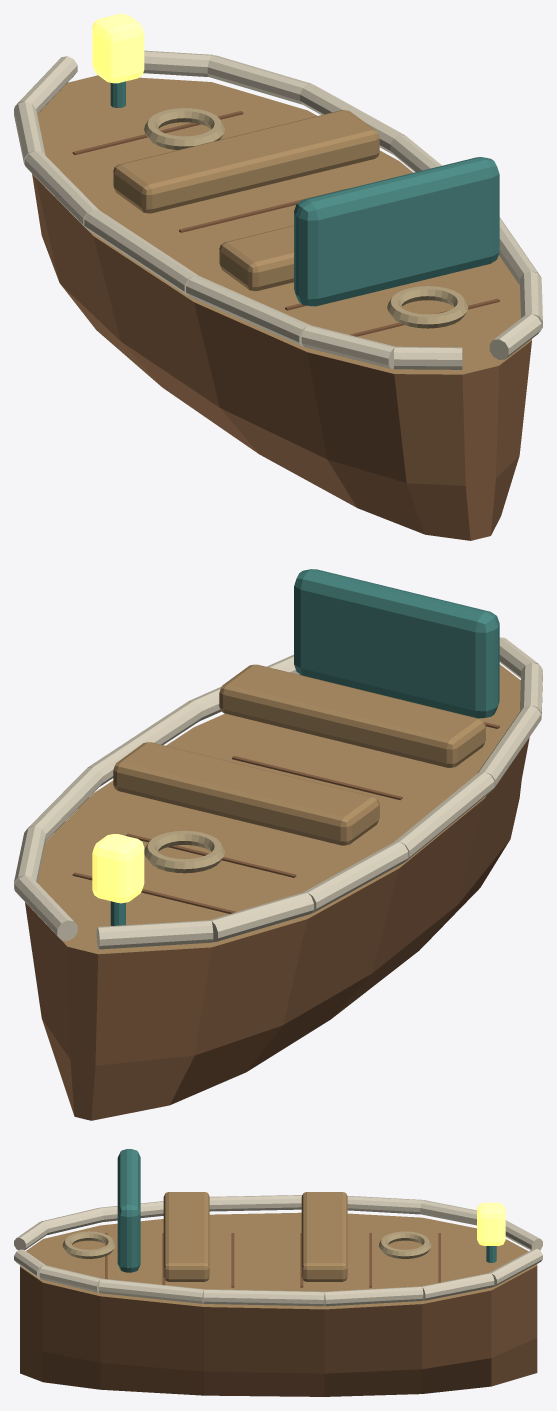
File: moonbay-boat-v1.glb
The picture shows the model from 3 angles, top to bottom: view 1: azimuth 30°, elevation 25°; view 2: azimuth 150°, elevation 25°; view 3: azimuth 270°, elevation 25°; orthographic projection. The views are drawn at different scales.
Parts seen in each view (by area): view 1: MB_wood_geometry, MB_woodlight_geometry, MB_trim_geometry, MB_copper_geometry, MB_rope_geometry, MB_lamp_geometry; view 2: MB_woodlight_geometry, MB_wood_geometry, MB_copper_geometry, MB_trim_geometry, MB_lamp_geometry, MB_rope_geometry; view 3: MB_wood_geometry, MB_woodlight_geometry, MB_trim_geometry, MB_copper_geometry, MB_rope_geometry, MB_lamp_geometry.
Part boxes in pixels (x1,y1,x2,y2): MB_wood_geometry: (32, 111, 531, 540); MB_woodlight_geometry: (37, 75, 531, 374); MB_trim_geometry: (14, 50, 542, 369); MB_copper_geometry: (110, 81, 499, 306); MB_rope_geometry: (144, 108, 468, 328); MB_lamp_geometry: (92, 14, 144, 83); MB_woodlight_geometry: (37, 664, 520, 954); MB_wood_geometry: (25, 722, 529, 1120); MB_copper_geometry: (110, 569, 499, 925); MB_trim_geometry: (14, 637, 542, 949); MB_lamp_geometry: (92, 834, 144, 903); MB_rope_geometry: (144, 830, 224, 873); MB_wood_geometry: (20, 1233, 537, 1396); MB_woodlight_geometry: (20, 1192, 537, 1309); MB_trim_geometry: (14, 1195, 542, 1306); MB_copper_geometry: (117, 1149, 496, 1272); MB_rope_geometry: (62, 1231, 431, 1258); MB_lamp_geometry: (477, 1202, 505, 1245).
Size of the model in its own units: 2.12 by 1.85 by 4.6.
